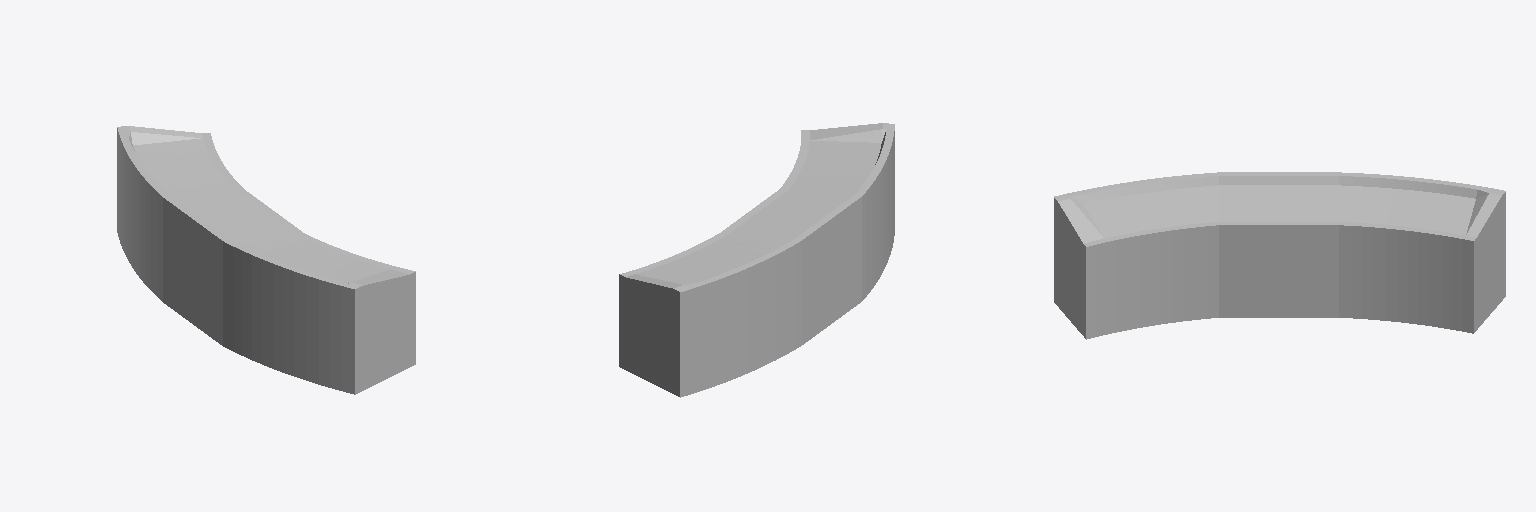
Rendered from ROOM_DESK.obj.
3 views of the same model, side by side, from view 1: azimuth 30°, elevation 25°; view 2: azimuth 150°, elevation 25°; view 3: azimuth 270°, elevation 25° (orthographic).
Parts seen in each view (by area): view 1: Mainboard.001_Cube.005; view 2: Mainboard.001_Cube.005; view 3: Mainboard.001_Cube.005.
Part boxes in pixels (bbox=[...]): Mainboard.001_Cube.005: bbox=[117, 126, 415, 394]; Mainboard.001_Cube.005: bbox=[619, 123, 894, 397]; Mainboard.001_Cube.005: bbox=[1054, 172, 1505, 339].
Size of the model in its own units: 1.1 by 0.8699 by 3.39.